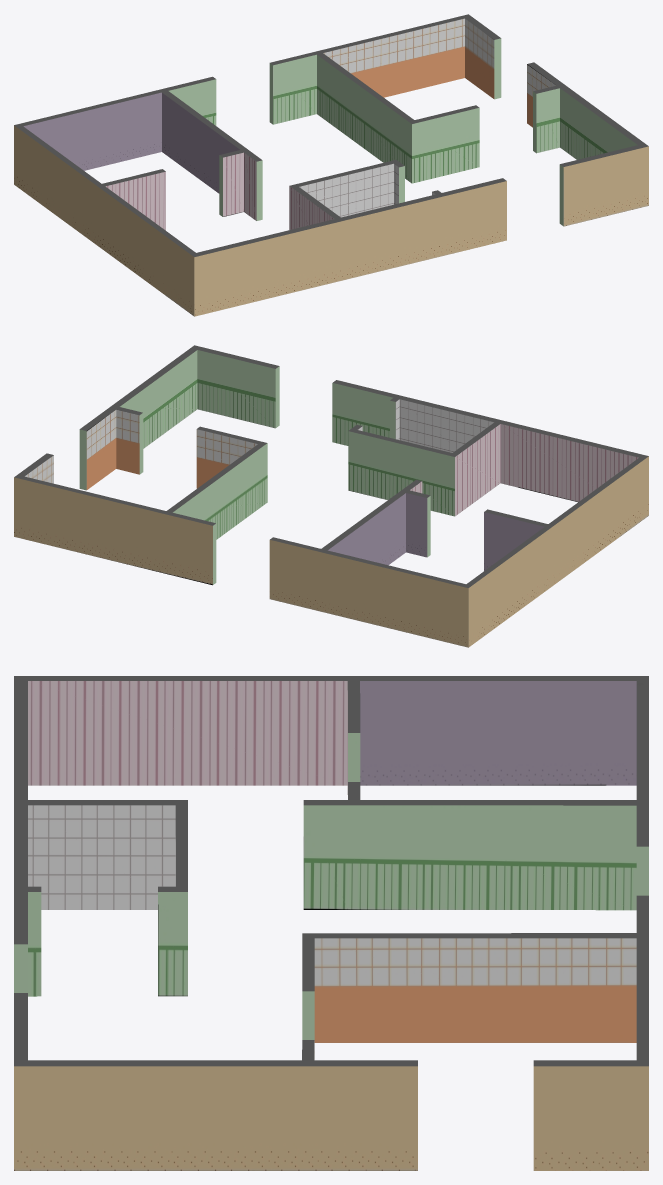
File: House.fbx
The picture shows the model from 3 angles, top to bottom: view 1: azimuth 30°, elevation 25°; view 2: azimuth 150°, elevation 25°; view 3: azimuth 270°, elevation 25°; orthographic projection. The views are drawn at different scales.
Parts seen in each view (by area): view 1: House; view 2: House; view 3: House.
Part boxes in pixels (x1=…): House: x1=14, y1=14, x2=648, y2=316; House: x1=14, y1=345, x2=648, y2=647; House: x1=14, y1=676, x2=648, y2=1170.
Size of the model in its own units: 8 by 1 by 5.5.
